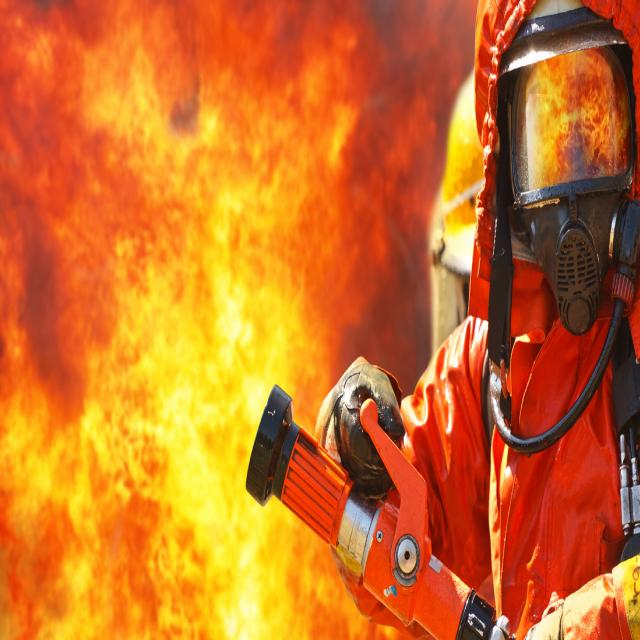Fire: (0, 0, 475, 640), (524, 53, 631, 188)
